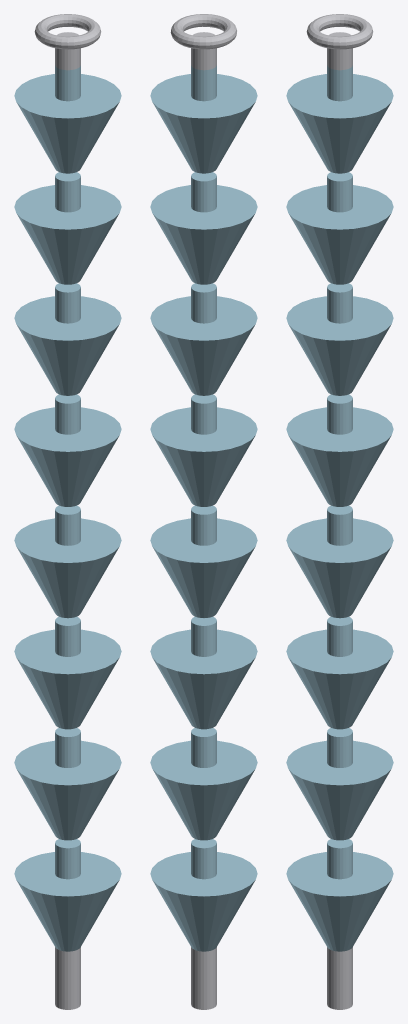
The model's file is Cadena_1006mm.fbx.
3 renders of one model, left to right at view 1: azimuth 90°, elevation 25°; view 2: azimuth 150°, elevation 25°; view 3: azimuth 270°, elevation 25°, orthographic.
Visible parts, largest first — view 1: Cadena_1006mm; view 2: Cadena_1006mm; view 3: Cadena_1006mm.
Part boxes in pixels (<box>): Cadena_1006mm: <box>14,14,121,1009</box>; Cadena_1006mm: <box>150,14,257,1009</box>; Cadena_1006mm: <box>286,14,393,1009</box>.
Bounding box in the file's own units: 10 × 101 × 10.
